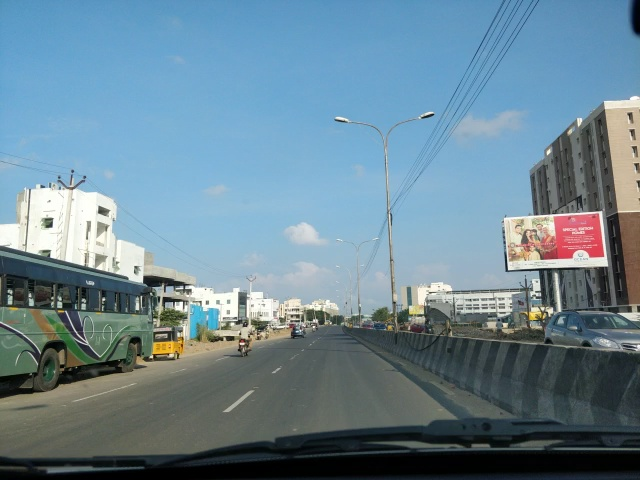auto: (155, 325, 187, 364)
bus: (2, 245, 156, 398)
car: (546, 309, 639, 354), (291, 325, 306, 340), (364, 323, 377, 333), (373, 324, 389, 331)
motorbike: (233, 321, 255, 356), (310, 323, 320, 333)
person: (494, 318, 505, 341)
